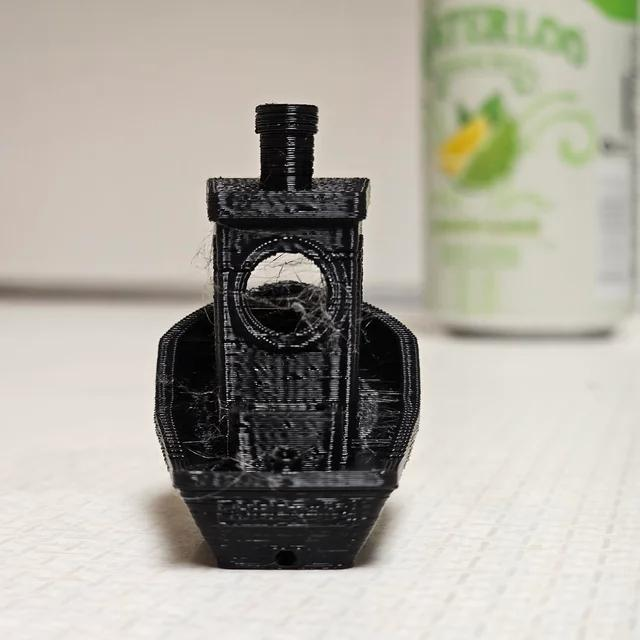Stringing: (249, 251, 328, 332)
